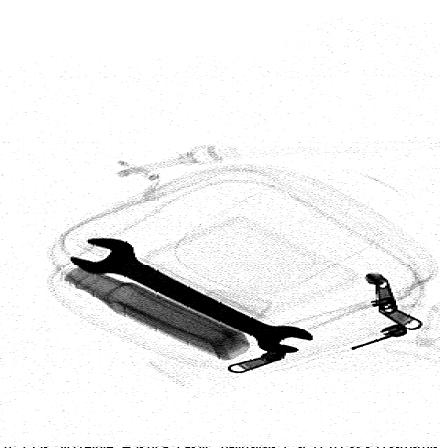Wrench: (68, 237, 316, 354)
